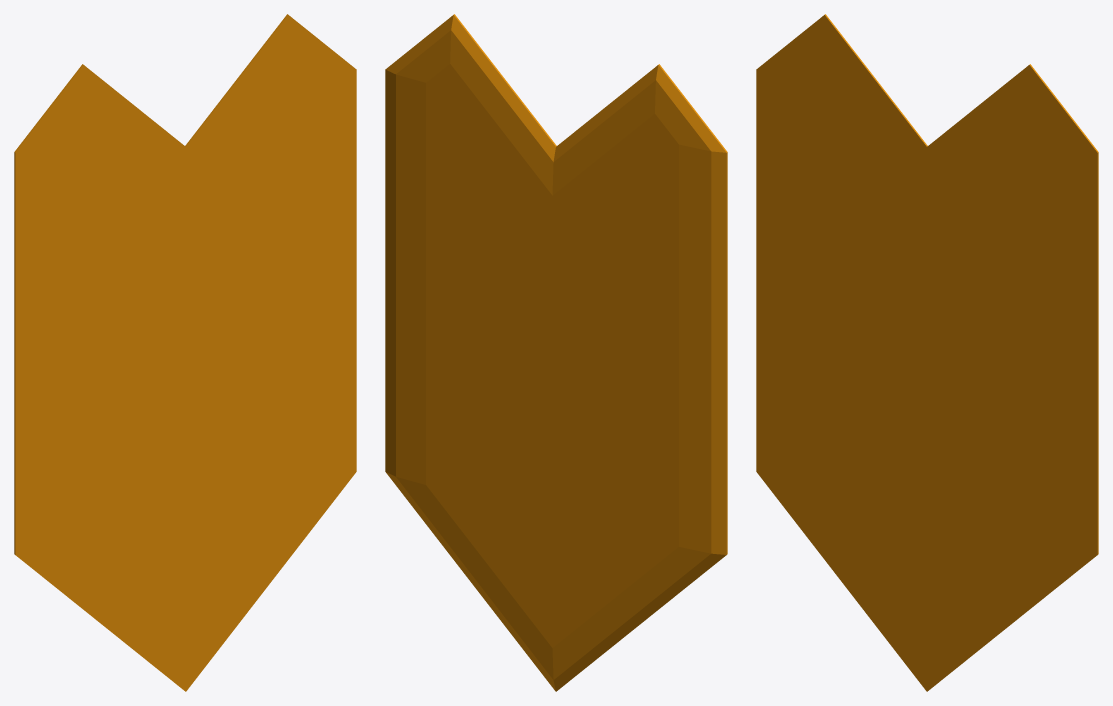
The model's file is speedwayCollider.fbx.
3 views of the same model, side by side, from view 1: azimuth 30°, elevation 25°; view 2: azimuth 150°, elevation 25°; view 3: azimuth 330°, elevation 25° (orthographic).
Parts seen in each view (by area): view 1: SpeedwayCollider; view 2: SpeedwayCollider; view 3: SpeedwayCollider.
Part boxes in pixels (<box>): SpeedwayCollider: <box>14,14,356,691</box>; SpeedwayCollider: <box>385,14,727,691</box>; SpeedwayCollider: <box>756,14,1098,691</box>.
Size of the model in its own units: 7.06 by 0.1604 by 12.89.
